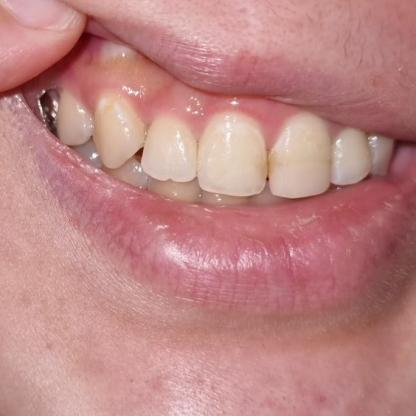Healthy: (55, 88, 144, 167)
